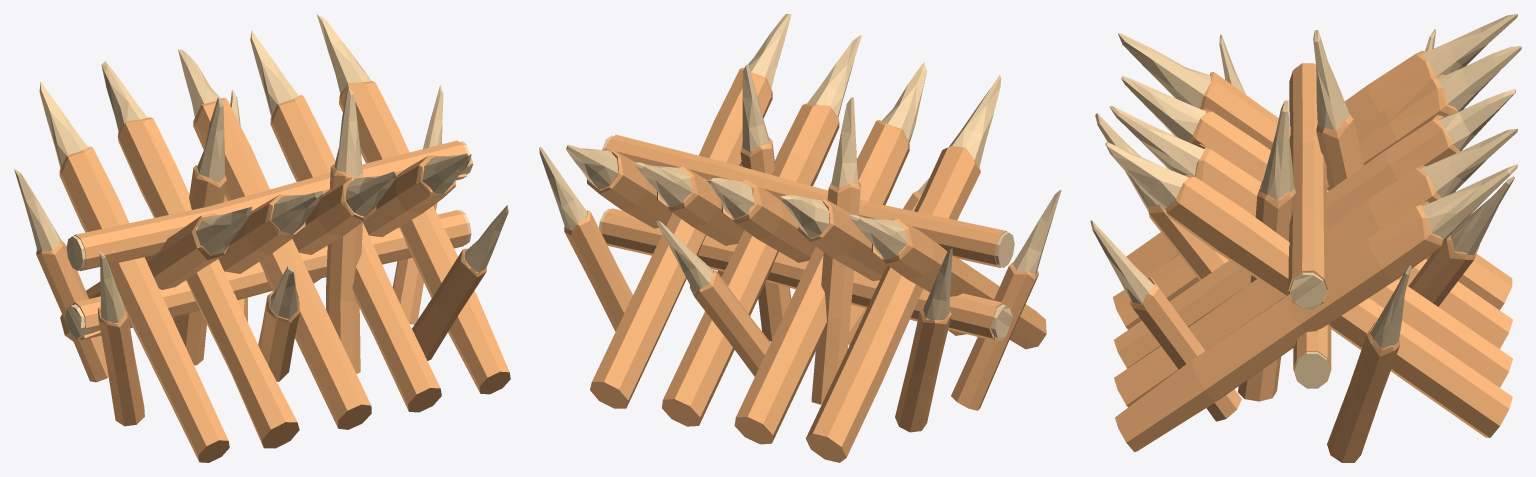
File: spike.wall.03.1.fbx
3 views of the same model, side by side, from view 1: azimuth 30°, elevation 25°; view 2: azimuth 150°, elevation 25°; view 3: azimuth 270°, elevation 25° (orthographic). The views are drawn at different scales.
Parts seen in each view (by area): view 1: spike.wall.03.1; view 2: spike.wall.03.1; view 3: spike.wall.03.1.
Boxes of the visible parts, x1,y1,x2,y2 form: spike.wall.03.1: [14, 14, 510, 462]; spike.wall.03.1: [539, 14, 1061, 462]; spike.wall.03.1: [1090, 14, 1521, 462].
Bounding box in the file's own units: 2.24 × 1.45 × 1.76.
